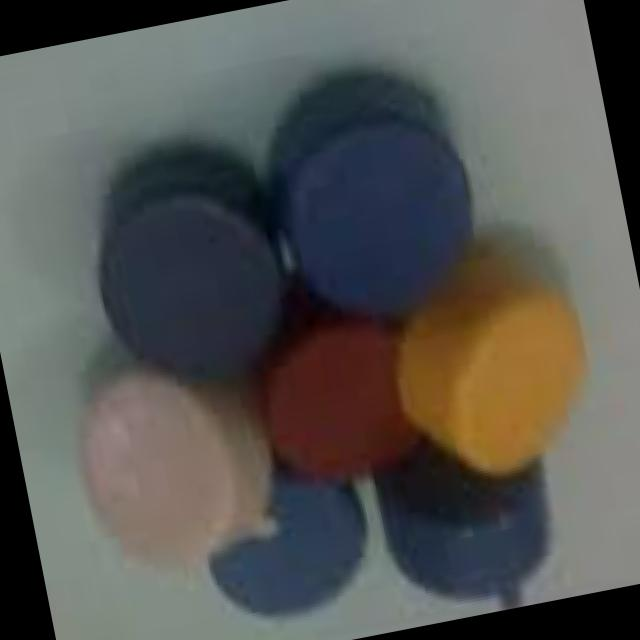TutupGalon: (16, 42, 633, 640)
